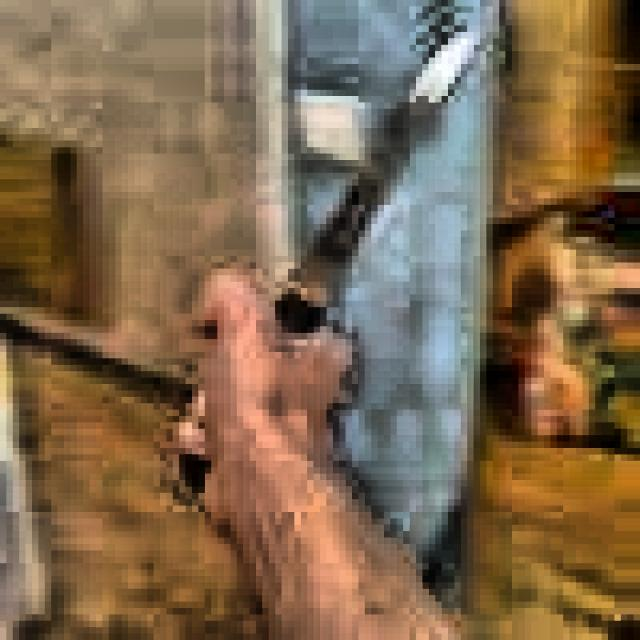knife: (183, 33, 481, 497)
